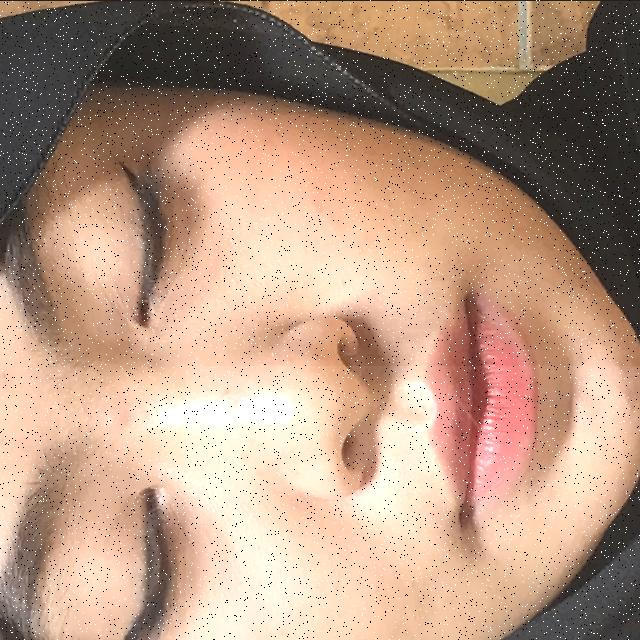ibu: (186, 365, 640, 640)
